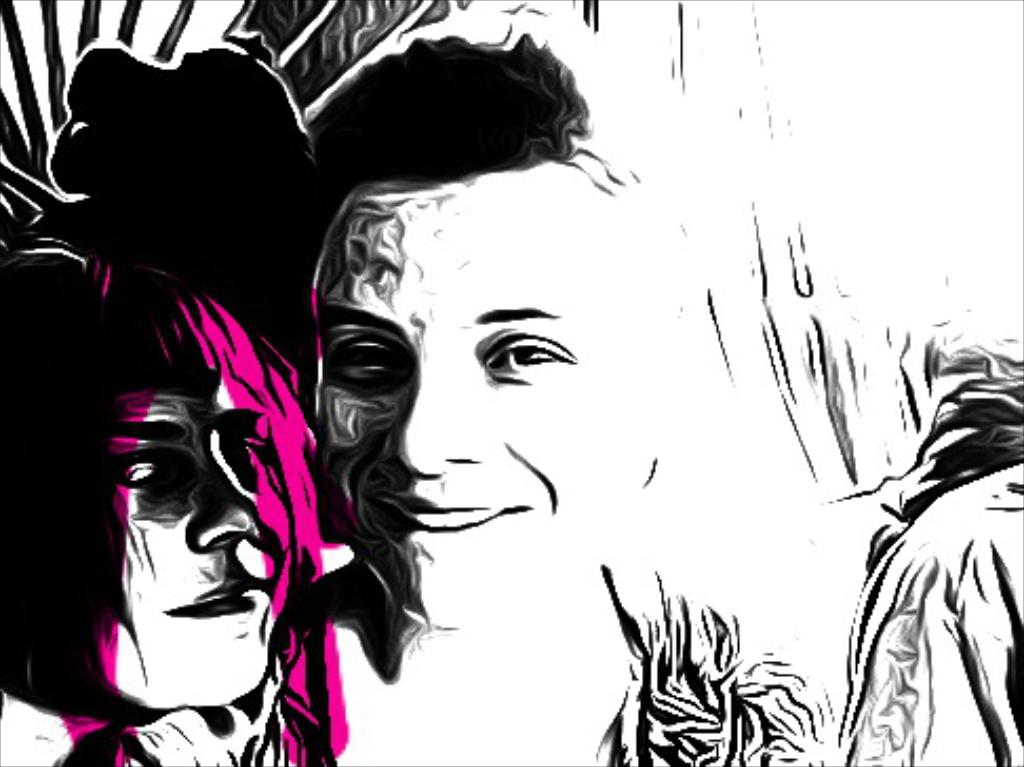Person: (0, 0, 839, 766)
